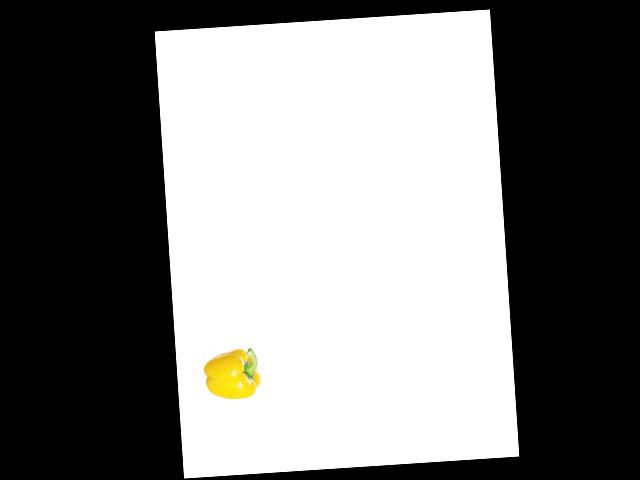bell_pepper: (200, 341, 267, 405)
